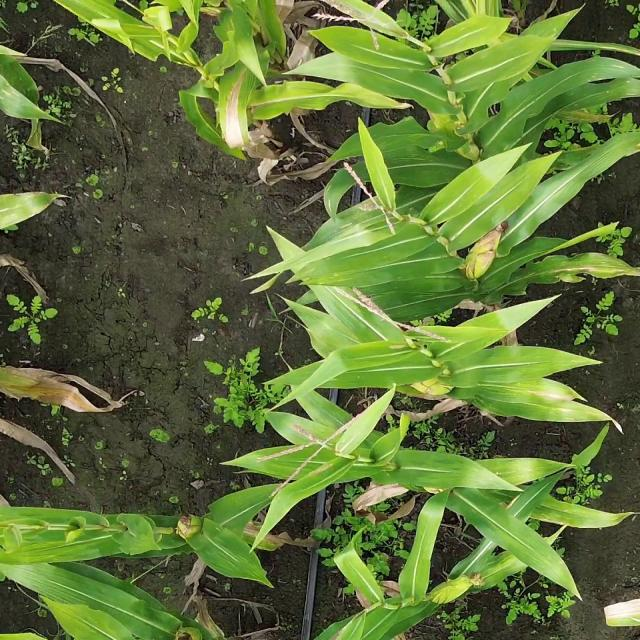gray-leaf-spot: (208, 532, 269, 582), (0, 75, 41, 121), (399, 288, 446, 320), (580, 50, 629, 80), (585, 86, 638, 105)
northern-leaf-blight: (213, 66, 259, 147), (549, 260, 621, 280)
